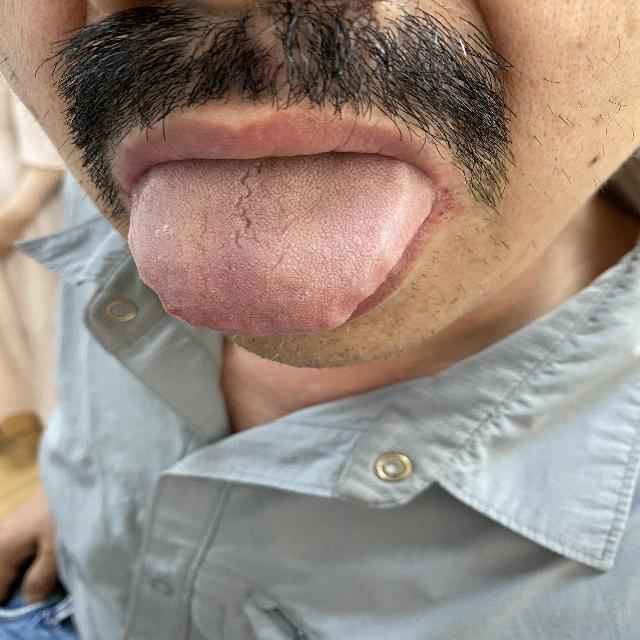baitaishe: (126, 160, 434, 335)
pangdashe: (125, 160, 433, 335)
